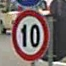limite 10: (10, 10, 49, 61)
